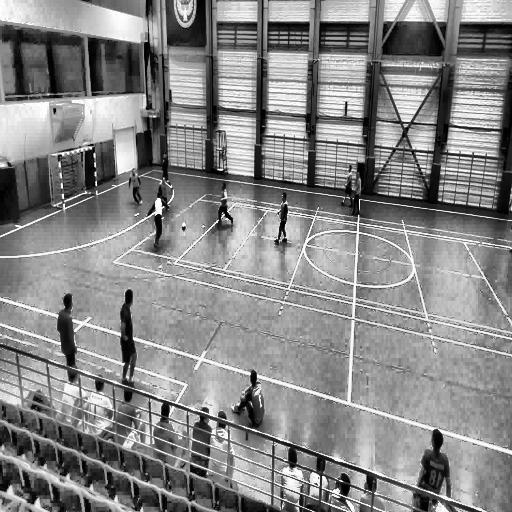ball: (181, 221, 186, 231)
player: (232, 368, 265, 438), (120, 289, 137, 388), (57, 293, 77, 377), (148, 193, 166, 253), (215, 180, 235, 228), (273, 190, 289, 246), (339, 164, 354, 210), (351, 168, 363, 218), (128, 169, 143, 208), (160, 151, 172, 192), (157, 173, 169, 210)
